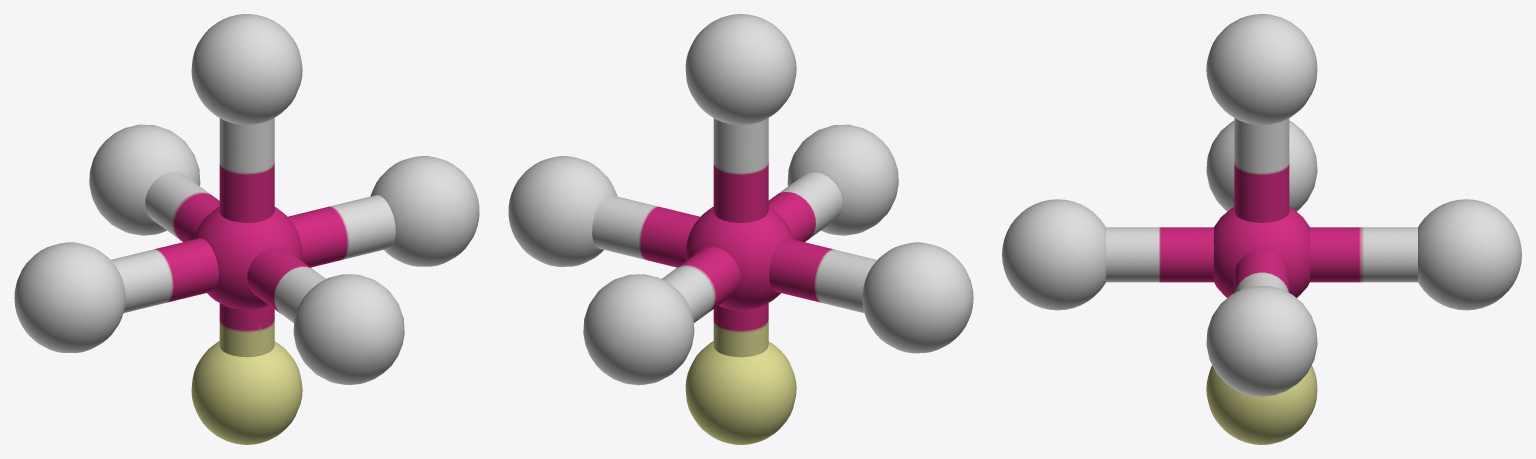
3 renders of one model, left to right at view 1: azimuth 30°, elevation 25°; view 2: azimuth 150°, elevation 25°; view 3: azimuth 270°, elevation 25°, orthographic.
Visible parts, largest first — view 1: SquarePyramidalBond; view 2: SquarePyramidalBond; view 3: SquarePyramidalBond.
Part boxes in pixels (box(x1,y1,x2,y2)): SquarePyramidalBond: box(14, 14, 479, 444); SquarePyramidalBond: box(508, 14, 973, 444); SquarePyramidalBond: box(1002, 14, 1521, 444).
Size of the model in its own units: 95.6 by 85.32 by 95.6.
Materials: 1 (1 with a texture image).
